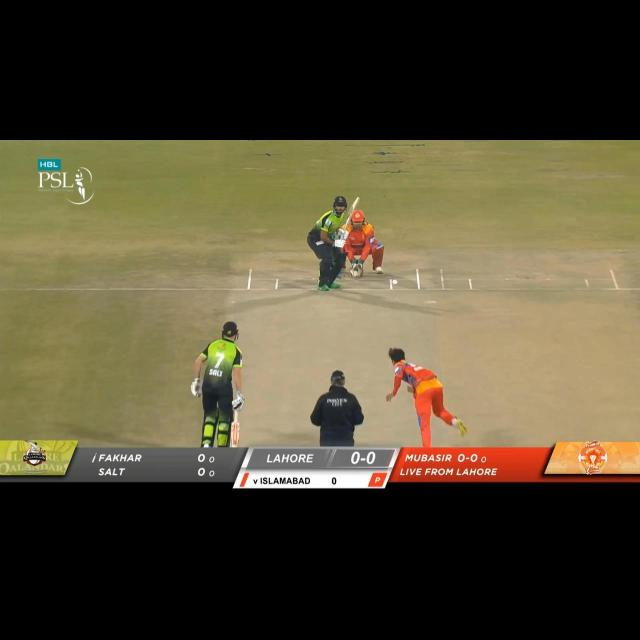bat: (344, 198, 361, 230), (229, 423, 241, 447)
toe: (230, 442, 242, 448), (354, 197, 362, 204)
